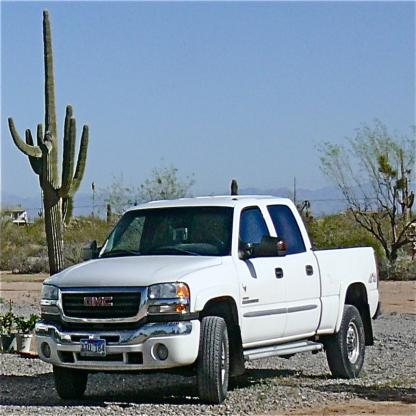Truck: (35, 196, 380, 403)
